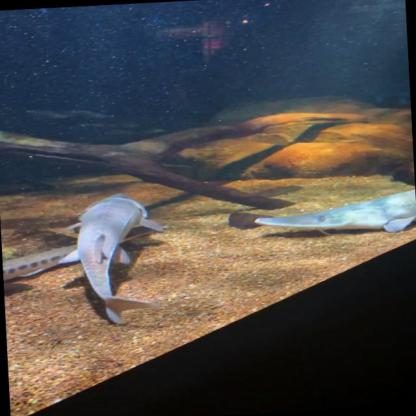fish: (1, 225, 172, 283), (251, 186, 415, 242)
shark: (58, 190, 171, 330)
